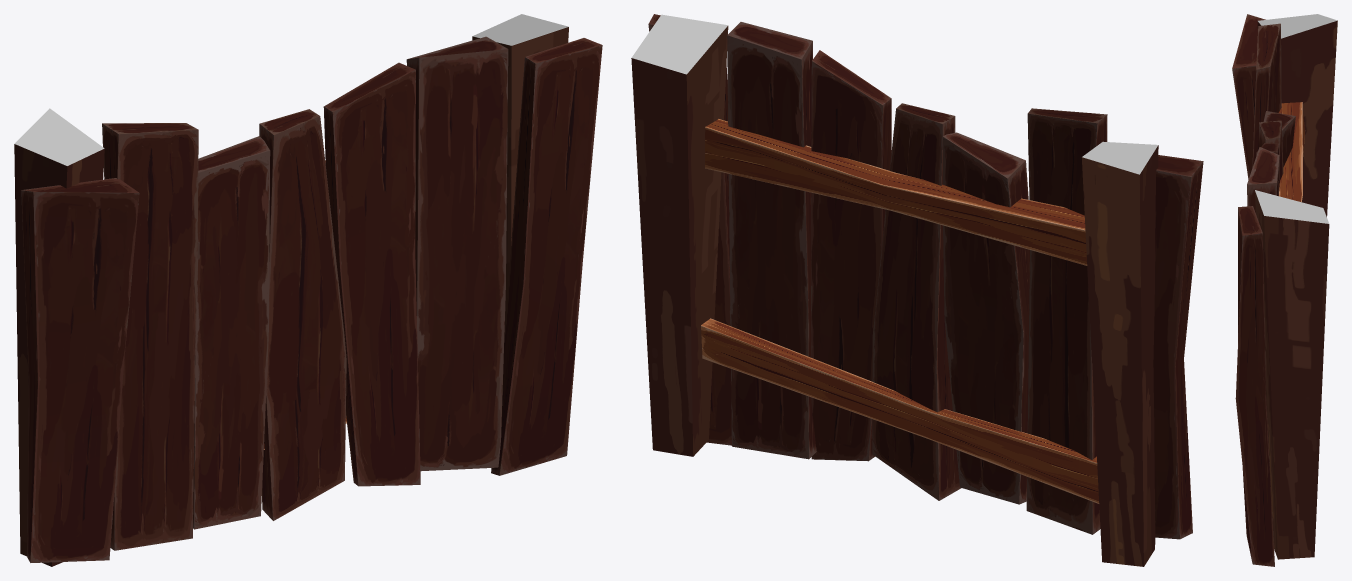
File: SM_PROP_fence_v04_03.fbx
3 renders of one model, left to right at view 1: azimuth 30°, elevation 25°; view 2: azimuth 150°, elevation 25°; view 3: azimuth 270°, elevation 25°, orthographic. The views are drawn at different scales.
Parts seen in each view (by area): view 1: SM_PROP_fence_v04_03; view 2: SM_PROP_fence_v04_03; view 3: SM_PROP_fence_v04_03.
Part boxes in pixels (x1,y1,x2,y2): SM_PROP_fence_v04_03: (14,14,602,566); SM_PROP_fence_v04_03: (631,14,1203,566); SM_PROP_fence_v04_03: (1232,14,1337,566).
Bounding box in the file's own units: 560 × 410 × 108.
